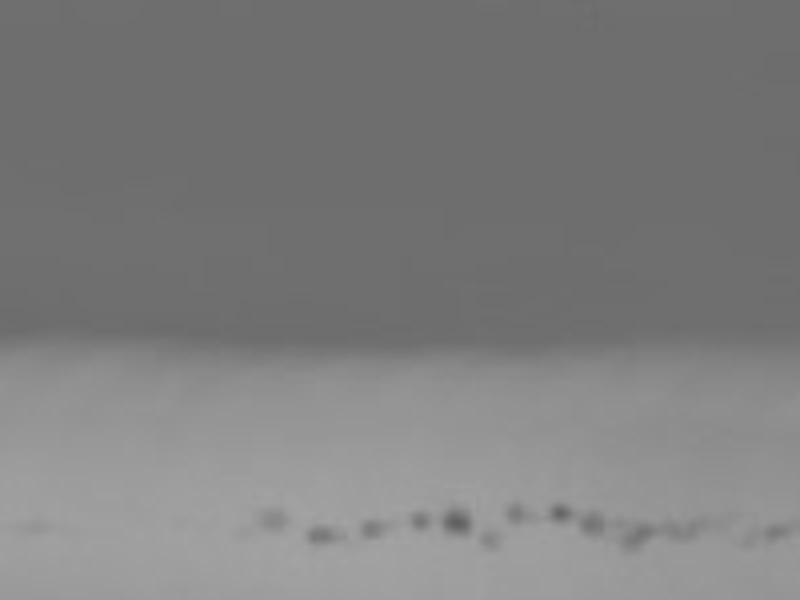defect: (613, 517, 656, 559), (664, 514, 704, 544), (15, 519, 77, 537), (252, 502, 287, 531), (576, 508, 609, 538), (761, 519, 798, 545), (305, 523, 346, 545), (444, 508, 474, 537), (500, 499, 532, 525), (545, 499, 571, 526), (479, 530, 505, 555), (360, 517, 387, 539), (736, 533, 760, 556), (406, 509, 429, 531)
